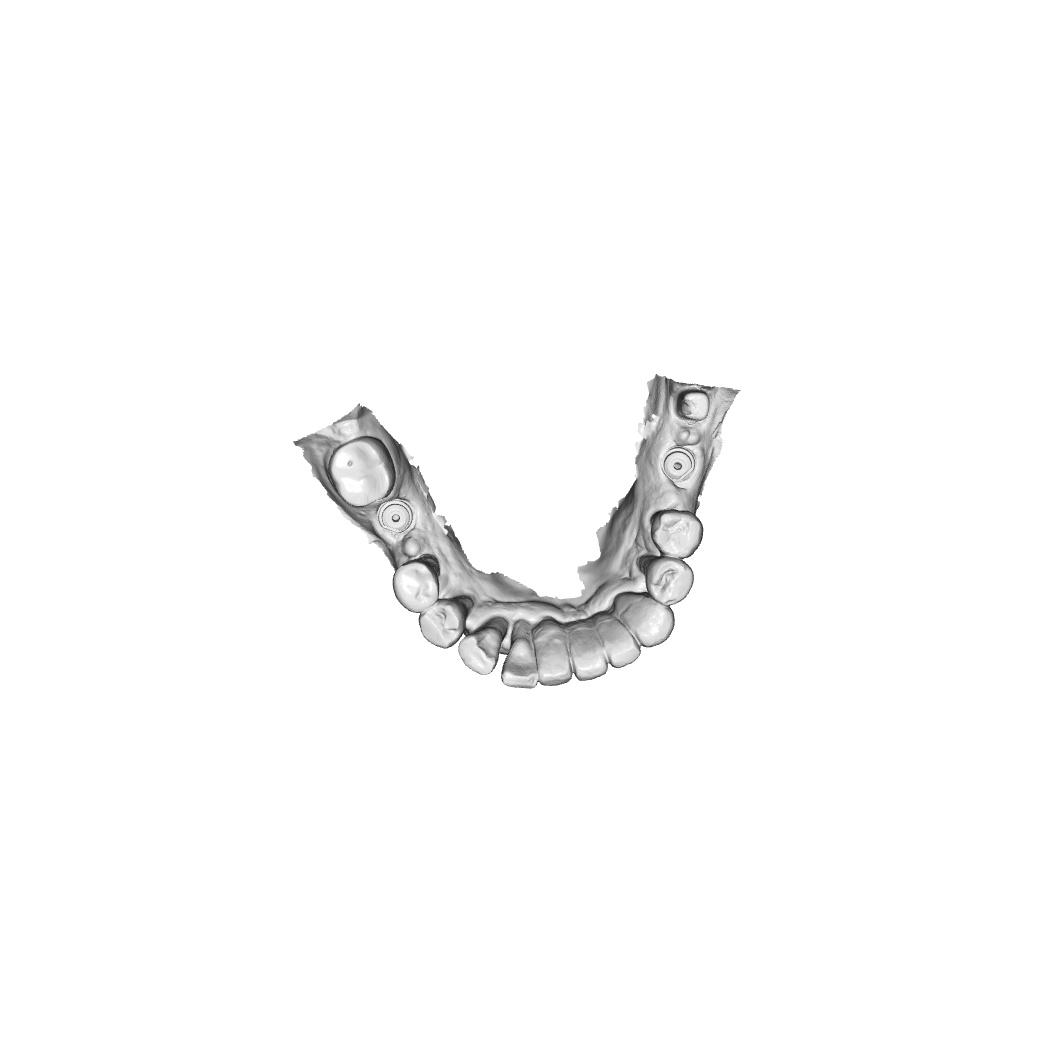abutment: (672, 388, 713, 424)
canine: (622, 591, 677, 649), (457, 626, 505, 677)
implant: (376, 498, 416, 535), (660, 446, 698, 483)
incisor: (596, 616, 641, 670), (566, 626, 608, 683), (534, 629, 573, 687), (500, 636, 538, 690)
molar: (324, 434, 398, 509)
premolar: (390, 557, 449, 614), (649, 508, 704, 560), (417, 598, 469, 650), (644, 557, 695, 607)
